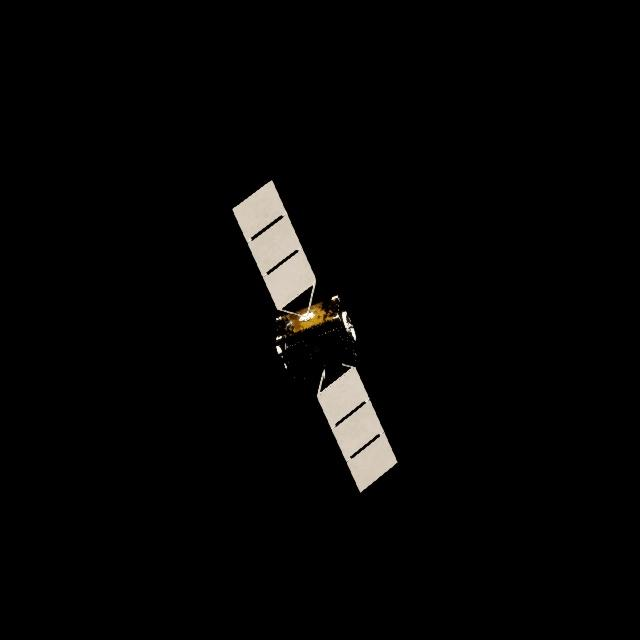medium_debris: (235, 183, 398, 496)
